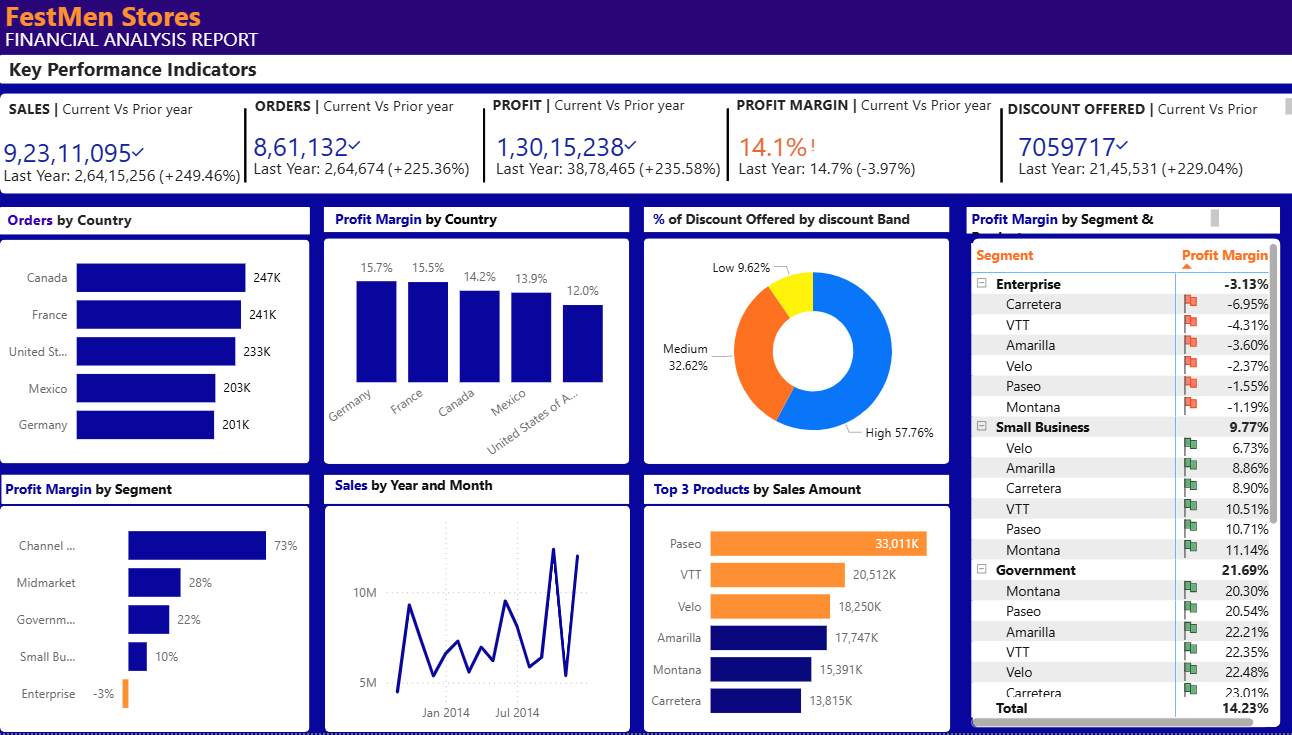

This screenshot's page, from the dashboard's own definition file:
{"tool":"powerbi","page":{"name":"Page 1","canvas":[1280,720],"ordinal":0},"visuals":[{"type":"shape","box":[10,0,1270,55.7],"z":0},{"type":"shape","box":[10,55.7,1270,28.6],"z":1000},{"type":"shape","box":[9.6,94.7,1270.7,98.8],"z":2000},{"type":"shape","box":[9.6,237.4,303.3,219.6],"z":3000},{"type":"shape","box":[10,497.1,302.9,221.4],"z":4000},{"type":"shape","box":[327.1,497.1,298.6,221.4],"z":5000},{"type":"shape","box":[326.6,236,299.1,220.9],"z":6000},{"type":"shape","box":[640,497.1,300,221.4],"z":7000},{"type":"shape","box":[639.5,236,299.1,220.9],"z":8000},{"type":"shape","box":[326.6,205.8,299.1,24.7],"z":9000},{"type":"shape","box":[9.6,205.8,303.3,27.4],"z":10000},{"type":"shape","box":[11,466.6,301.9,28.8],"z":11000},{"type":"shape","box":[639.5,466.6,299.1,28.8],"z":12000},{"type":"shape","box":[326.6,466.6,299.1,28.8],"z":13000},{"type":"shape","box":[639.5,205.8,299.1,24.7],"z":14000},{"type":"shape","box":[955.1,205.8,307.4,26.1],"z":15000},{"type":"textbox","box":[10,0,317.1,45.7],"z":16000},{"type":"textbox","box":[10,28.6,467.1,45.7],"z":17000},{"type":"textbox","box":[12.9,94.3,220,34.3],"z":18000},{"type":"kpi","fields":{"Indicator":["Analysis.Sales Amount"],"TrendLine":["date Table.Year"],"Goal":["Analysis.LYsales Amount"]},"box":[0,127.3,260.7,70],"z":19000},{"type":"textbox","box":[12.9,52.9,301.4,37.1],"z":20000},{"type":"shape","box":[178.4,108.4,142.7,72.7],"z":21000},{"type":"kpi","fields":{"TrendLine":["date Table.Year"],"Goal":["Analysis.LY Orders"],"Indicator":["Analysis.Orders"]},"box":[244.3,127.3,273.1,56.3],"z":22000},{"type":"kpi","fields":{"TrendLine":["date Table.Year"],"Goal":["Analysis.LY Profit"],"Indicator":["Analysis.Profit"]},"box":[481.6,127.3,273.1,56.3],"z":23000},{"type":"kpi","fields":{"TrendLine":["date Table.Year"],"Indicator":["Analysis.Profit Margin"],"Goal":["Analysis.LY Profit Margin"]},"box":[719,127.3,219.6,56.3],"z":24000},{"type":"kpi","fields":{"TrendLine":["date Table.Year"],"Goal":["Analysis.LY Discount Offered"],"Indicator":["Analysis.discount Offered"]},"box":[993.5,127.3,256.6,56.3],"z":25000},{"type":"shape","box":[411.7,108.4,142.7,72.7],"z":26000},{"type":"shape","box":[650.4,108.4,142.7,71.4],"z":27000},{"type":"shape","box":[918,108.4,142.7,72.7],"z":28000},{"type":"textbox","box":[253.9,91.9,222.3,34.3],"z":29000},{"type":"textbox","box":[487.1,90.6,219.6,34.3],"z":30000},{"type":"textbox","box":[724.5,90.6,285.4,35.7],"z":31000},{"type":"textbox","box":[990.7,94.7,289.5,34.3],"z":32000},{"type":"textbox","box":[12.3,203.1,159.2,34.3],"z":33000},{"type":"barChart","fields":{"Y":["Analysis.Orders"],"Category":["Financials.Country"]},"box":[0,233.3,289.5,219.6],"z":34000},{"type":"textbox","box":[332.1,203.1,185.2,34.3],"z":35000},{"type":"columnChart","fields":{"Y":["Analysis.Profit Margin"],"Category":["Financials.Country"]},"box":[321.1,240.1,304.6,226.4],"z":36000},{"type":"donutChart","fields":{"Category":["Financials.Discount Band"],"Y":["Analysis.discount Offered"]},"box":[651.4,235.7,307.1,221.4],"z":37000},{"type":"textbox","box":[639.5,203.1,278.6,34.3],"z":38000},{"type":"textbox","box":[9.6,466.6,185.2,34.3],"z":39000},{"type":"textbox","box":[332.1,463.8,185.2,34.3],"z":40000},{"type":"textbox","box":[644.9,466.6,252.5,34.3],"z":41000},{"type":"textbox","box":[955.1,203.1,252.5,34.3],"z":42000},{"type":"barChart","fields":{"Category":["Financials.Segment"],"Y":["Analysis.Profit Margin"]},"box":[9.6,495.4,304.6,220.9],"z":43000},{"type":"lineChart","fields":{"Y":["Analysis.Sales Amount"],"Category":["date Table.Date.Variation.Date Hierarchy.Year","date Table.Date.Variation.Date Hierarchy.Month"]},"box":[349.2,497.5,252.3,220.9],"z":44000},{"type":"barChart","fields":{"Category":["Financials.Product"],"Y":["Analysis.Sales Amount"]},"box":[637.1,497.5,333.5,220.9],"z":45000},{"type":"shape","box":[961.4,235.7,301.4,478.6],"z":46000},{"type":"pivotTable","fields":{"Rows":["Financials.Segment","Financials.Product"],"Values":["Analysis.Profit Margin"]},"box":[955.1,236,310.1,483],"z":47000}]}

Visuals, with their boxes in screenshot pixels (x1, y1, x2, y2), scaled from the page's 1280x720 canvas onto the 1292x735 screenshot:
shape: <box>10,0,1291,57</box>
shape: <box>10,57,1291,86</box>
shape: <box>10,97,1291,198</box>
shape: <box>10,242,316,467</box>
shape: <box>10,507,316,733</box>
shape: <box>330,507,632,733</box>
shape: <box>330,241,632,466</box>
shape: <box>646,507,949,733</box>
shape: <box>645,241,947,466</box>
shape: <box>330,210,632,235</box>
shape: <box>10,210,316,238</box>
shape: <box>11,476,316,506</box>
shape: <box>645,476,947,506</box>
shape: <box>330,476,632,506</box>
shape: <box>645,210,947,235</box>
shape: <box>964,210,1274,237</box>
textbox: <box>10,0,330,47</box>
textbox: <box>10,29,482,76</box>
textbox: <box>13,96,235,131</box>
kpi - Analysis.Sales Amount x date Table.Year: <box>0,130,263,201</box>
textbox: <box>13,54,317,92</box>
shape: <box>180,111,324,185</box>
kpi - date Table.Year x Analysis.LY Orders: <box>247,130,522,187</box>
kpi - date Table.Year x Analysis.LY Profit: <box>486,130,762,187</box>
kpi - date Table.Year x Analysis.Profit Margin: <box>726,130,947,187</box>
kpi - date Table.Year x Analysis.LY Discount Offered: <box>1003,130,1262,187</box>
shape: <box>416,111,560,185</box>
shape: <box>656,111,801,184</box>
shape: <box>927,111,1071,185</box>
textbox: <box>256,94,481,129</box>
textbox: <box>492,92,713,128</box>
textbox: <box>731,92,1019,129</box>
textbox: <box>1000,97,1291,132</box>
textbox: <box>12,207,173,242</box>
barChart - Analysis.Orders x Financials.Country: <box>0,238,292,462</box>
textbox: <box>335,207,522,242</box>
columnChart - Analysis.Profit Margin x Financials.Country: <box>324,245,632,476</box>
donutChart - Financials.Discount Band x Analysis.discount Offered: <box>658,241,967,467</box>
textbox: <box>645,207,927,242</box>
textbox: <box>10,476,197,511</box>
textbox: <box>335,473,522,508</box>
textbox: <box>651,476,906,511</box>
textbox: <box>964,207,1219,242</box>
barChart - Financials.Segment x Analysis.Profit Margin: <box>10,506,317,731</box>
lineChart - Analysis.Sales Amount x date Table.Date.Variation.Date Hierarchy.Year: <box>352,508,607,733</box>
barChart - Financials.Product x Analysis.Sales Amount: <box>643,508,980,733</box>
shape: <box>970,241,1275,729</box>
pivotTable - Financials.Segment x Financials.Product: <box>964,241,1277,734</box>
